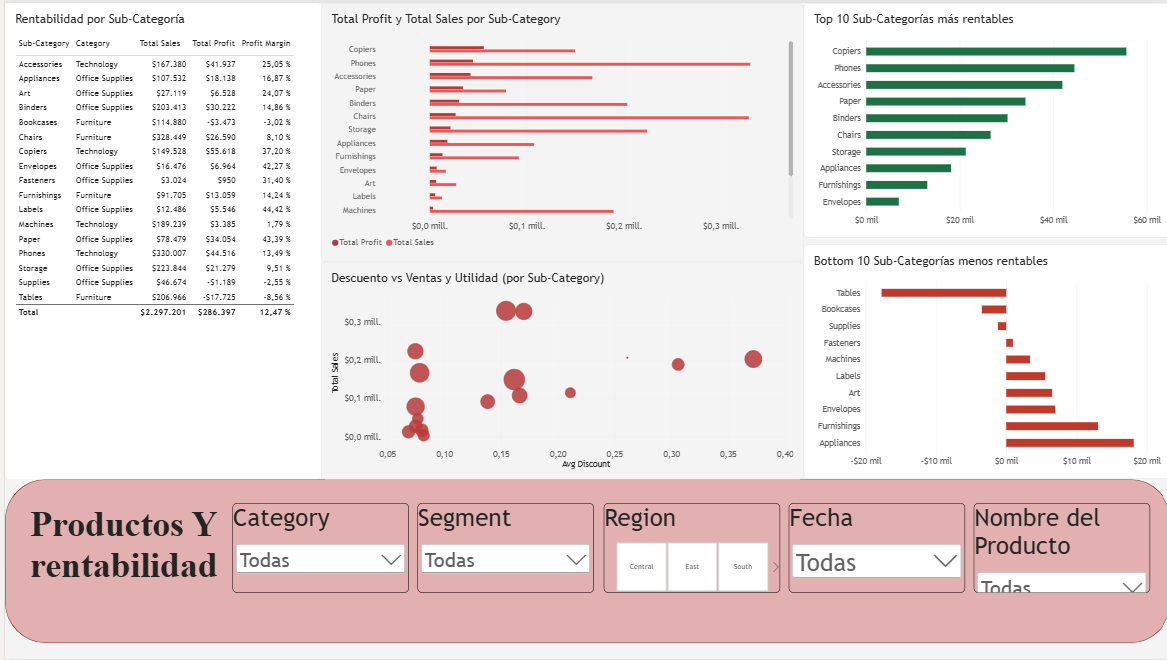

What the dashboard file says about the page in this screenshot:
{"tool":"powerbi","page":{"name":"Productos y Rentabilidad","canvas":[1920,1080],"ordinal":1},"visuals":[{"type":"barChart","title":"Rentabilidad por Sub-Categoría","fields":{"Category":["DIM_Producto.Sub-Category"],"Y":["Medidas DAX.Total Profit"]},"box":[1315.3,0,605.1,784.2],"z":0},{"type":"shape","box":[0,784.2,1920.4,269.6],"z":1000},{"type":"textbox","box":[30.9,825.4,329.3,146.1],"z":2000},{"type":"slicer","title":"Fecha","fields":{"Values":["DIM_Fecha.NombreMes","DIM_Fecha.Año"]},"box":[424,825.4,314.9,148.2],"z":3000},{"type":"slicer","title":"Nombre del Producto","fields":{"Values":["DIM_Producto.Product Name"]},"box":[819.2,823.3,395.2,148.2],"z":4000},{"type":"slicer","title":"Region","fields":{"Values":["FACT_Ventas.Region"]},"box":[1362.6,798.6,364.3,240.8],"z":5000},{"type":"tableEx","title":"Rentabilidad por Sub-Categoría","fields":{"Values":["DIM_Producto.Sub-Category","DIM_Producto.Category","Medidas DAX.Total Sales","Medidas DAX.Total Profit","Medidas DAX.Profit Margin"]},"box":[0,0,551.6,784.2],"z":6000},{"type":"clusteredBarChart","fields":{"Category":["DIM_Producto.Sub-Category"],"Y":["Medidas DAX.Total Profit","Medidas DAX.Total Sales"]},"box":[551.6,0,763.6,426.1],"z":7000},{"type":"scatterChart","title":"Descuento vs Ventas y Utilidad (por Sub-Category)","fields":{"Category":["DIM_Producto.Sub-Category"],"Size":["Medidas DAX.Total Profit"],"X":["Medidas DAX.Avg Discount"],"Y":["Medidas DAX.Total Sales"]},"box":[551.6,426.1,763.6,358.1],"z":8000}]}

Visuals, with their boxes in screenshot pixels (x1, y1, x2, y2), scaled from the page's 1920x1080 canvas onto the 1167x660 screenshot:
"Rentabilidad por Sub-Categoría" barChart: 799/0/1166/479
shape: 0/479/1166/644
textbox: 19/504/219/594
"Fecha" slicer: 258/504/449/595
"Nombre del Producto" slicer: 498/503/738/594
"Region" slicer: 828/488/1050/635
"Rentabilidad por Sub-Categoría" tableEx: 0/0/335/479
clusteredBarChart - DIM_Producto.Sub-Category x Medidas DAX.Total Profit: 335/0/799/260
"Descuento vs Ventas y Utilidad (por Sub-Category)" scatterChart: 335/260/799/479
